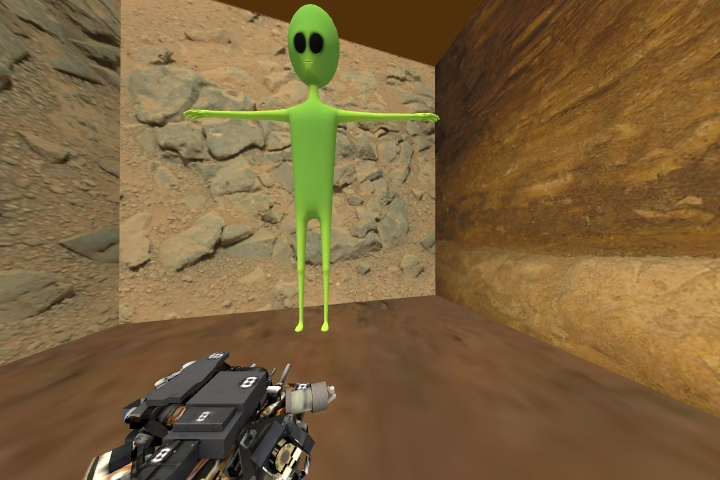alien: (178, 1, 448, 339)
